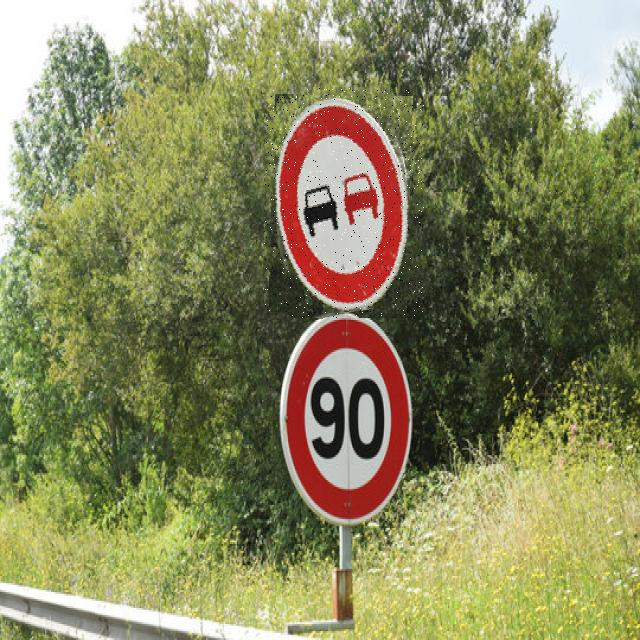no overtaking: (264, 88, 424, 318)
